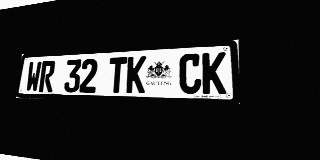2: (79, 58, 98, 93)
3: (64, 59, 82, 93)
C: (179, 53, 201, 94)
K: (202, 52, 226, 94), (126, 56, 146, 93)
R: (39, 60, 56, 92)
T: (107, 57, 127, 93)
W: (25, 61, 42, 92)
